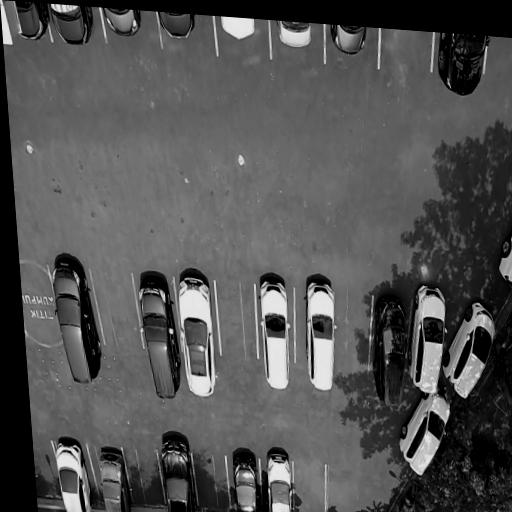Car: (45, 252, 105, 390), (440, 284, 504, 405), (172, 261, 219, 399), (133, 271, 182, 401), (394, 382, 455, 481), (406, 276, 451, 396), (255, 266, 294, 396), (368, 293, 411, 410), (300, 277, 336, 394), (436, 34, 493, 106), (157, 431, 200, 512), (50, 435, 91, 512), (93, 444, 131, 512), (259, 441, 294, 512), (47, 4, 98, 49), (230, 446, 261, 512), (14, 1, 49, 46), (155, 11, 197, 45), (103, 8, 143, 43), (329, 24, 370, 57), (494, 228, 512, 299), (274, 20, 314, 51), (219, 16, 258, 46)
Space Available: (91, 274, 142, 355), (218, 278, 257, 366), (20, 265, 61, 344), (336, 290, 371, 368), (192, 449, 229, 512), (124, 450, 164, 508), (380, 32, 434, 71), (33, 438, 62, 498), (294, 464, 325, 512)
